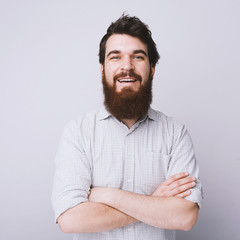young: (87, 14, 171, 123)
